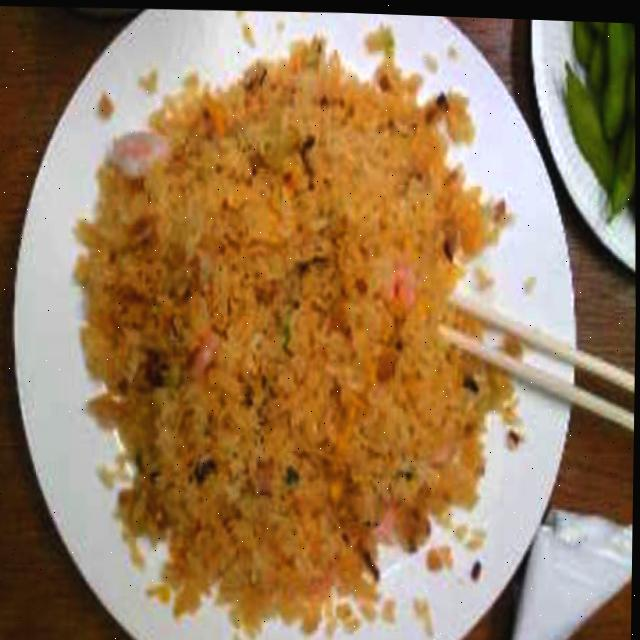米饭主食: (71, 12, 512, 640)
